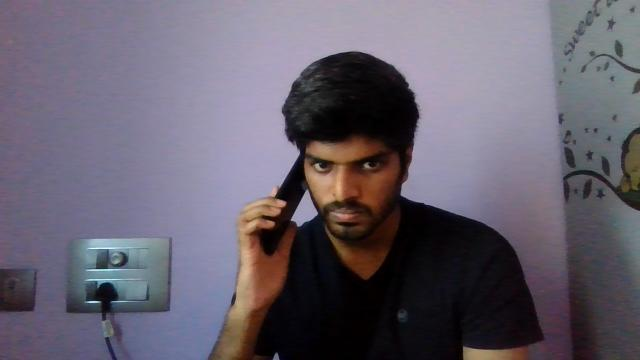PhoneUse: (252, 154, 306, 258)
SafeDriving: (304, 145, 340, 176), (352, 146, 388, 175)
